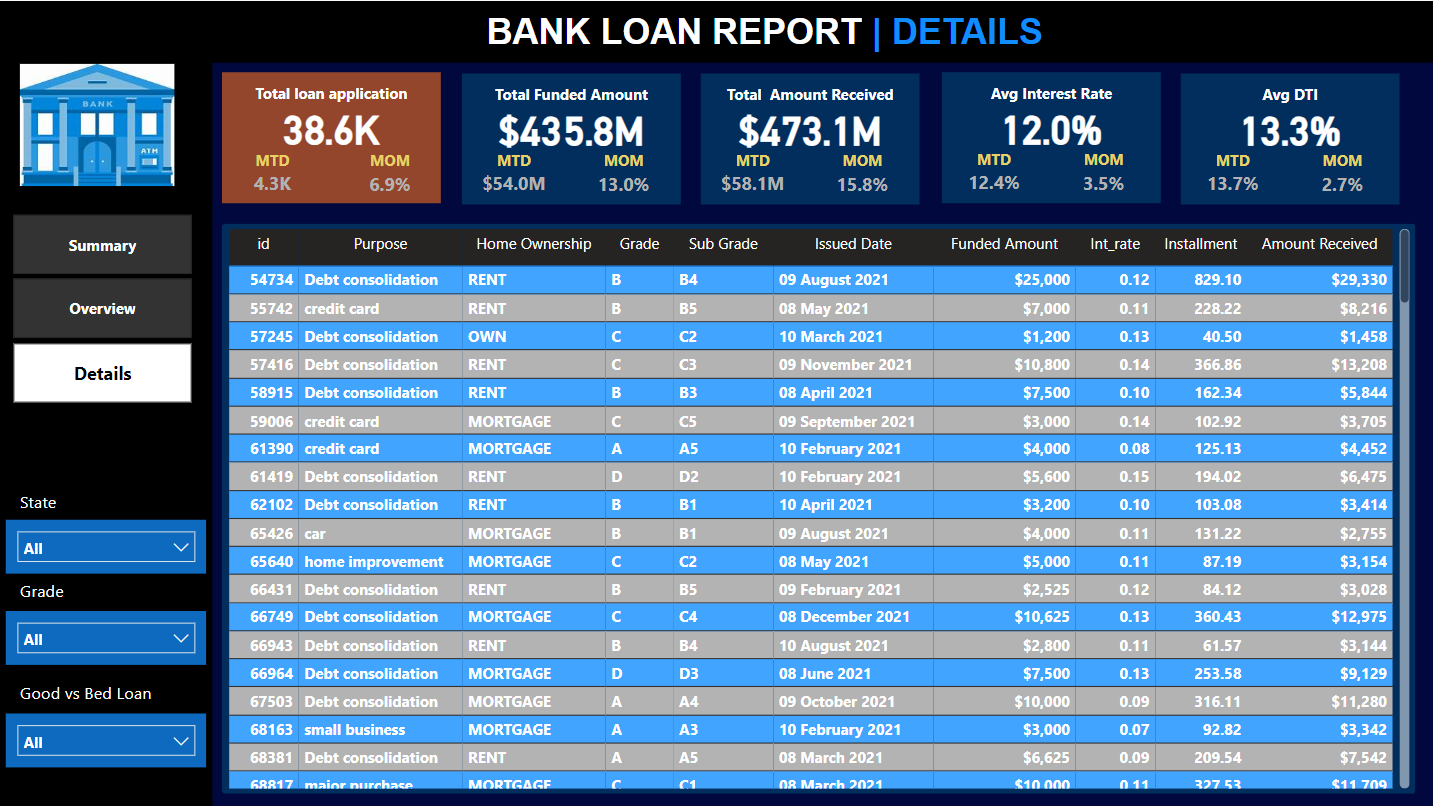

What the dashboard file says about the page in this screenshot:
{"tool":"powerbi","page":{"name":"Details","canvas":[1280,720],"ordinal":2},"visuals":[{"type":"shape","box":[200.3,63.9,194.9,116.6],"z":0,"group":"g1"},{"type":"shape","box":[842.1,63.9,194.9,116.6],"z":0,"group":"g4"},{"type":"shape","box":[414.4,64.5,194.9,116.6],"z":0,"group":"g2"},{"type":"shape","box":[627.1,64.5,194.9,116.6],"z":0,"group":"g3"},{"type":"shape","box":[1053.9,64.5,194.9,116.6],"z":0,"group":"g5"},{"type":"shape","box":[200.3,197.9,1062.9,507.9],"z":0},{"type":"shape","box":[0,0,1280.3,55],"z":1000},{"type":"card","fields":{"Values":["Bank_Loan_Data.Total Loan Application"]},"box":[200.3,83.1,194.9,59],"z":1000,"group":"g1"},{"type":"card","fields":{"Values":["Bank_Loan_Data.Avg Interest Rate"]},"box":[842.1,83.1,194.9,59],"z":1000,"group":"g4"},{"type":"card","fields":{"Values":["Bank_Loan_Data.Total Funded Amount"]},"box":[414.4,83.7,194.9,59],"z":1000,"group":"g2"},{"type":"card","fields":{"Values":["Bank_Loan_Data.Total Amount Received"]},"box":[627.1,83.7,194.9,59],"z":1000,"group":"g3"},{"type":"card","fields":{"Values":["Bank_Loan_Data.Avg DTI"]},"box":[1053.9,83.7,194.9,59],"z":1000,"group":"g5"},{"type":"shape","box":[0,54.3,191.8,666],"z":2000},{"type":"textbox","box":[200.3,68,194.9,30.2],"z":2000,"group":"g1"},{"type":"textbox","box":[842.1,68,194.9,30.2],"z":2000,"group":"g4"},{"type":"textbox","box":[414.4,68.6,194.9,30.2],"z":2000,"group":"g2"},{"type":"textbox","box":[627.1,68.6,194.9,30.2],"z":2000,"group":"g3"},{"type":"textbox","box":[1053.9,68.6,194.9,30.2],"z":2000,"group":"g5"},{"type":"textbox","box":[395.2,4.1,585.9,46.7],"z":3000},{"type":"card","title":"MTD","fields":{"Values":["Bank_Loan_Data.MTD Avg int Rate"]},"box":[852.2,132.2,72.7,46.7],"z":3000,"group":"g4"},{"type":"card","title":"MTD","fields":{"Values":["Bank_Loan_Data.MTD Laon Application"]},"box":[219.5,132.5,52.1,46.7],"z":3000,"group":"g1"},{"type":"card","title":"MTD","fields":{"Values":["Bank_Loan_Data.MTD Funded Amount"]},"box":[424.5,132.8,72.7,46.7],"z":3000,"group":"g2"},{"type":"card","title":"MTD","fields":{"Values":["Bank_Loan_Data.MTD Amount Received"]},"box":[637.2,132.8,72.7,46.7],"z":3000,"group":"g3"},{"type":"card","title":"MTD","fields":{"Values":["Bank_Loan_Data.MTD Avg dti"]},"box":[1064,132.8,72.7,46.7],"z":3000,"group":"g5"},{"type":"group","id":"g1","title":"Group 1","box":[200.3,63.9,195.4,115.8],"z":4000},{"type":"card","title":"MOM","fields":{"Values":["Bank_Loan_Data.MOM Avg int Rate"]},"box":[955.1,132.2,63.1,48],"z":4000,"group":"g4"},{"type":"card","title":"MOM","fields":{"Values":["Bank_Loan_Data.MOM Loan Application"]},"box":[323.8,132.5,52.1,48],"z":4000,"group":"g1"},{"type":"card","title":"MOM","fields":{"Values":["Bank_Loan_Data.MOM Funded Amount"]},"box":[527.4,132.8,63.1,48],"z":4000,"group":"g2"},{"type":"card","title":"MOM","fields":{"Values":["Bank_Loan_Data.MOM Amount Received"]},"box":[740.1,132.8,63.1,48],"z":4000,"group":"g3"},{"type":"card","title":"MOM","fields":{"Values":["Bank_Loan_Data.MOM Avg Dti"]},"box":[1166.9,132.8,63.1,48],"z":4000,"group":"g5"},{"type":"group","id":"g2","title":"Group 1","box":[414.4,64.5,194.9,116.6],"z":5000},{"type":"group","id":"g3","title":"Group 1","box":[627.1,64.5,194.9,116.6],"z":6000},{"type":"group","id":"g4","title":"Group 1","box":[842.1,63.9,194.2,115.8],"z":7000},{"type":"group","id":"g5","title":"Group 1","box":[1053.9,64.5,194.9,116.6],"z":8000},{"type":"slicer","fields":{"Values":["Bank_Loan_Data.address_state"]},"box":[7.2,462.1,178.6,48.3],"z":9000},{"type":"textbox","box":[15.7,430.7,55.5,31.4],"z":10000},{"type":"slicer","fields":{"Values":["Bank_Loan_Data.grade"]},"box":[7.2,542.9,178.6,48.3],"z":11000},{"type":"slicer","fields":{"Values":["Bank_Loan_Data.Good vs Bad loan"]},"box":[7.2,634.6,178.6,48.3],"z":12000},{"type":"textbox","box":[15.7,510.3,71.2,38.6],"z":13000},{"type":"textbox","box":[15.7,600.8,158,33.8],"z":14000},{"type":"tableEx","fields":{"Values":["Bank_Loan_Data.id","Bank_Loan_Data.purpose","Bank_Loan_Data.home_ownership","Bank_Loan_Data.grade","Bank_Loan_Data.sub_grade","Bank_Loan_Data.issue_date","Bank_Loan_Data.Total Funded Amount","Sum(Bank_Loan_Data.int_rate)","Sum(Bank_Loan_Data.installment)","Bank_Loan_Data.Total Amount Received"]},"box":[200.3,197.9,1062.9,507.9],"z":17000},{"type":"image","box":[15.7,50.7,147.2,118.2],"z":17001},{"type":"pageNavigator","box":[14.5,190.6,159.3,168.9],"z":17002}]}

Visuals, with their boxes in screenshot pixels (x1, y1, x2, y2), scaled from the page's 1280x720 canvas onto the 1433x806 screenshot:
shape: (224, 72, 442, 202)
shape: (943, 72, 1161, 202)
shape: (464, 72, 682, 203)
shape: (702, 72, 920, 203)
shape: (1180, 72, 1398, 203)
shape: (224, 222, 1414, 790)
shape: (0, 0, 1432, 62)
card - Bank_Loan_Data.Total Loan Application: (224, 93, 442, 159)
card - Bank_Loan_Data.Avg Interest Rate: (943, 93, 1161, 159)
card - Bank_Loan_Data.Total Funded Amount: (464, 94, 682, 160)
card - Bank_Loan_Data.Total Amount Received: (702, 94, 920, 160)
card - Bank_Loan_Data.Avg DTI: (1180, 94, 1398, 160)
shape: (0, 61, 215, 805)
textbox: (224, 76, 442, 110)
textbox: (943, 76, 1161, 110)
textbox: (464, 77, 682, 111)
textbox: (702, 77, 920, 111)
textbox: (1180, 77, 1398, 111)
textbox: (442, 5, 1098, 57)
"MTD" card: (954, 148, 1035, 200)
"MTD" card: (246, 148, 304, 201)
"MTD" card: (475, 149, 557, 201)
"MTD" card: (713, 149, 795, 201)
"MTD" card: (1191, 149, 1273, 201)
"Group 1" group: (224, 72, 443, 201)
"MOM" card: (1069, 148, 1140, 202)
"MOM" card: (363, 148, 421, 202)
"MOM" card: (590, 149, 661, 202)
"MOM" card: (829, 149, 899, 202)
"MOM" card: (1306, 149, 1377, 202)
"Group 1" group: (464, 72, 682, 203)
"Group 1" group: (702, 72, 920, 203)
"Group 1" group: (943, 72, 1160, 201)
"Group 1" group: (1180, 72, 1398, 203)
slicer - Bank_Loan_Data.address_state: (8, 517, 208, 571)
textbox: (18, 482, 80, 517)
slicer - Bank_Loan_Data.grade: (8, 608, 208, 662)
slicer - Bank_Loan_Data.Good vs Bad loan: (8, 710, 208, 764)
textbox: (18, 571, 97, 614)
textbox: (18, 673, 194, 710)
tableEx - Bank_Loan_Data.id x Bank_Loan_Data.purpose: (224, 222, 1414, 790)
image: (18, 57, 182, 189)
pageNavigator: (16, 213, 195, 402)
